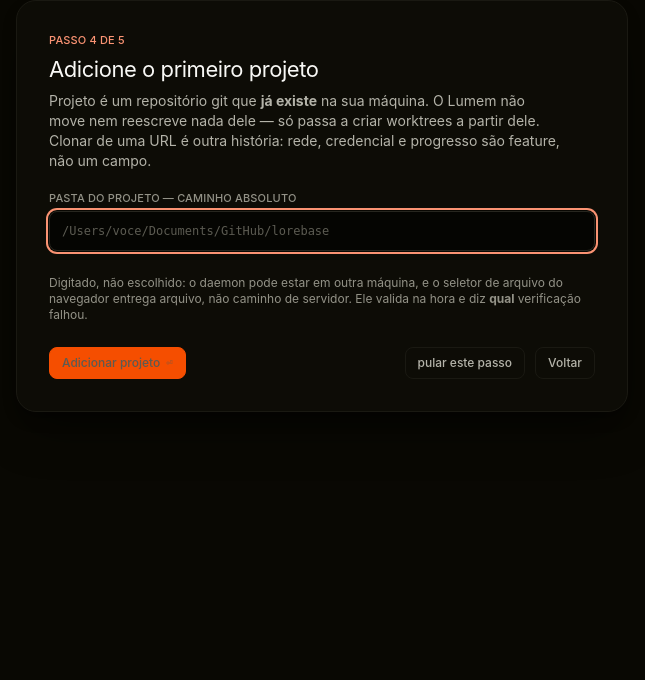
Scenario: project step › shows what the daemon read before anything is registered
Type "/repos/lorebase" into the field labelled "Pasta do projeto — caminho absoluto" at (322, 231), box [49, 211, 595, 251]
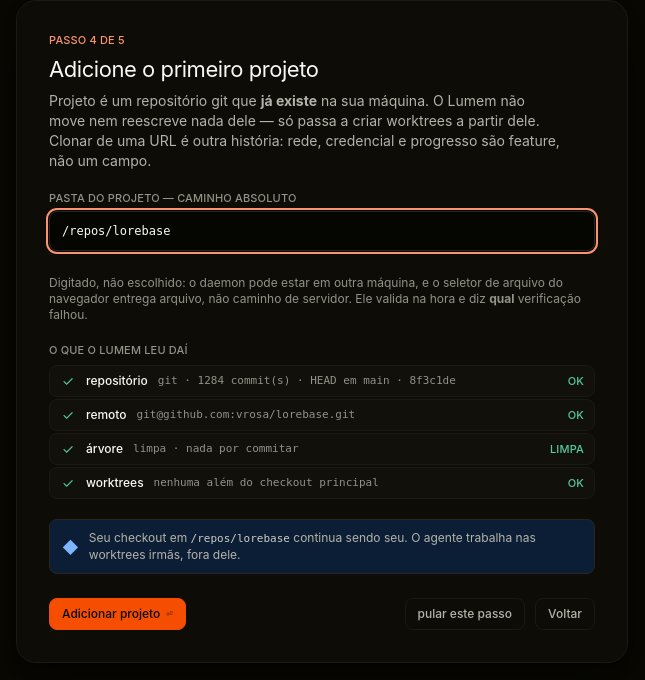
Check: the text "git · 1284 commit(s) · HEAD em main · 8f3c1de" is shown, box [158, 374, 456, 387]
Check: the text "git@github.com:vrosa/lorebase.git" is shown, box [137, 408, 355, 421]
Check: the text "limpa · nada por commitar" is shown, box [133, 442, 299, 455]
